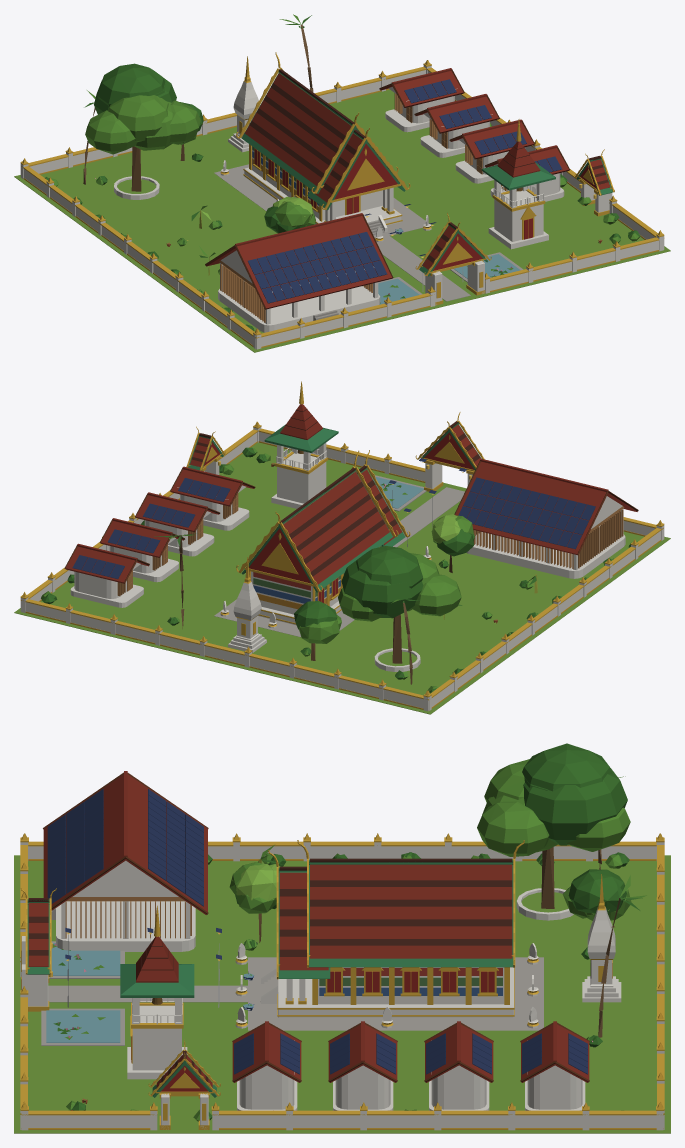
Rendered from temple_2.glb.
The picture shows the model from 3 angles, top to bottom: view 1: azimuth 30°, elevation 25°; view 2: azimuth 150°, elevation 25°; view 3: azimuth 270°, elevation 25°; orthographic projection. The views are drawn at different scales.
Parts seen in each view (by area): view 1: body; view 2: body; view 3: body.
Part boxes in pixels (x1,y1,x2,y2): body: [14, 14, 670, 352]; body: [14, 381, 670, 714]; body: [14, 743, 670, 1133].
Bounding box in the file's own units: 47.9 × 13.26 × 47.9.
